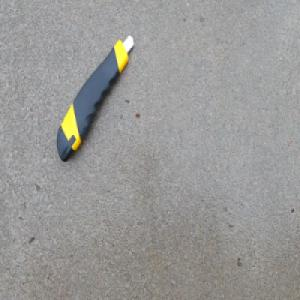Cutter: (56, 31, 136, 163)
